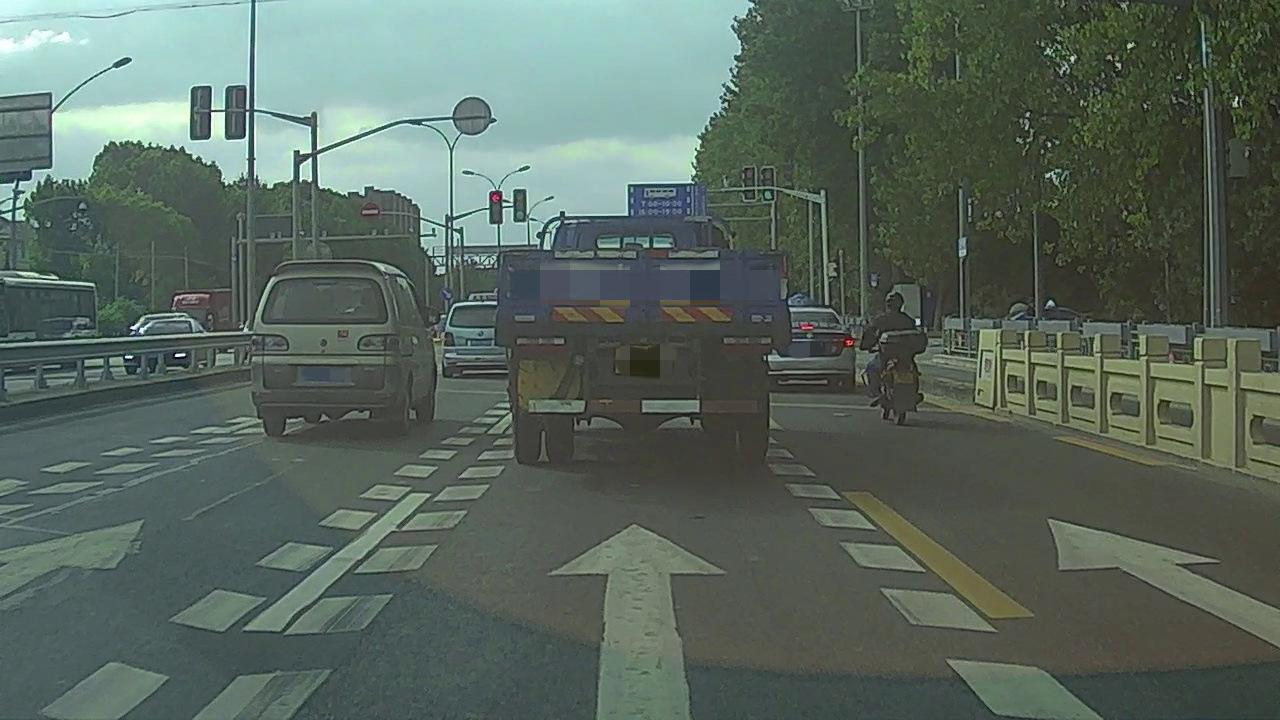traffic_light: (489, 191, 503, 225), (761, 168, 775, 201), (513, 189, 526, 223), (743, 167, 755, 200)
